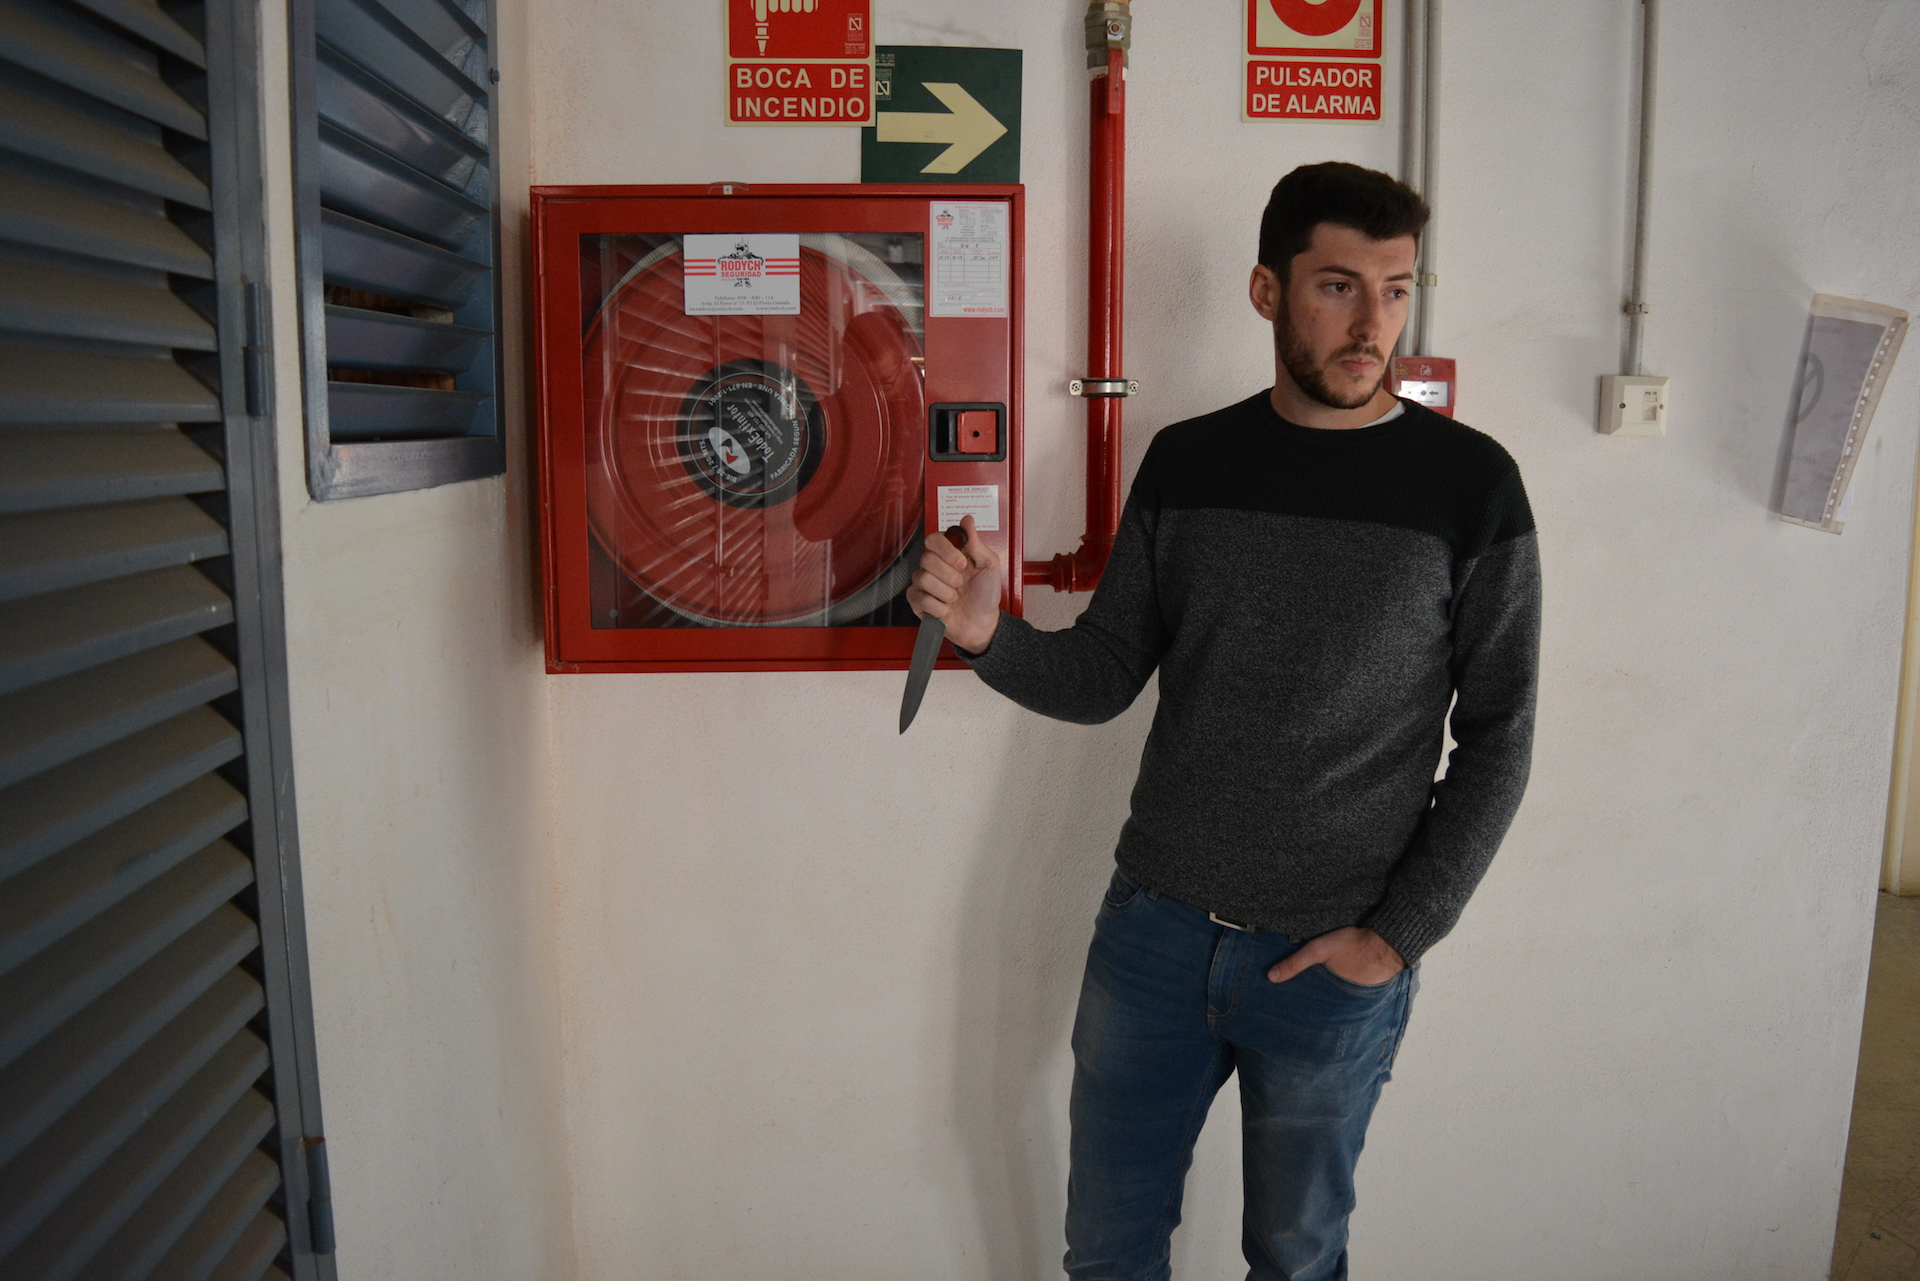knife: (894, 508, 975, 746)
